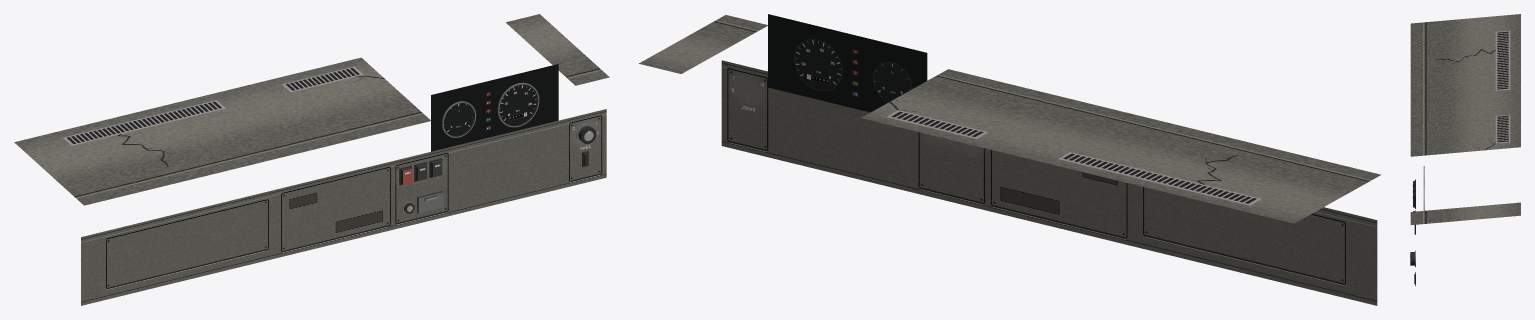
Rendered from cab-dash.glb.
3 renders of one model, left to right at view 1: azimuth 30°, elevation 25°; view 2: azimuth 150°, elevation 25°; view 3: azimuth 270°, elevation 25°, orthographic. The views are drawn at different scales.
Parts seen in each view (by area): view 1: drive_cabin_dash; view 2: drive_cabin_dash; view 3: drive_cabin_dash.
Part boxes in pixels (x1,y1,x2,y2): drive_cabin_dash: [14, 14, 609, 305]; drive_cabin_dash: [639, 14, 1381, 305]; drive_cabin_dash: [1410, 14, 1520, 285].
Bounding box in the file's own units: 1.68 × 0.367 × 0.3904.
Materials: 13 (3 with a texture image).
